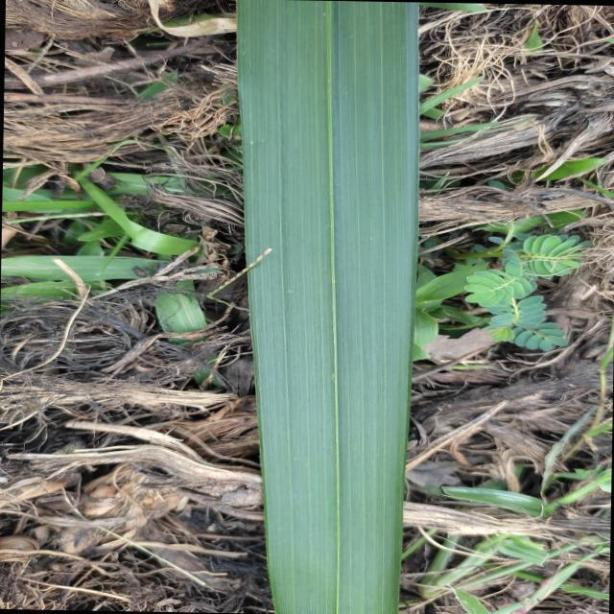Healthy: (233, 1, 420, 614)
